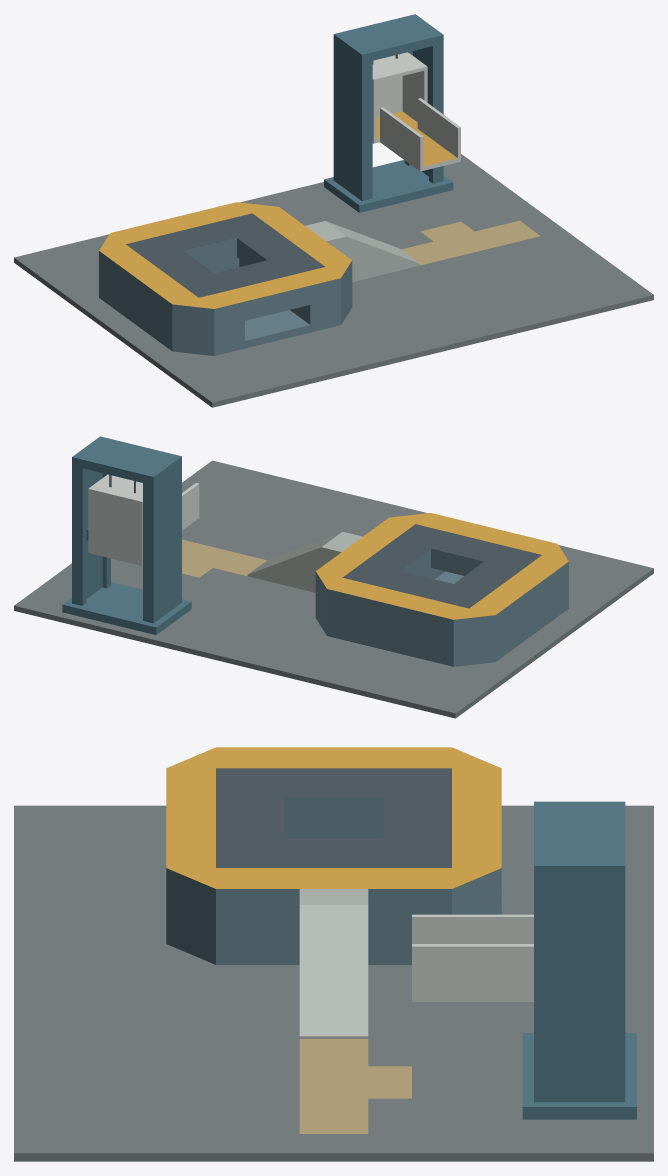
3 renders of one model, top to bottom at view 1: azimuth 30°, elevation 25°; view 2: azimuth 150°, elevation 25°; view 3: azimuth 270°, elevation 25°, orthographic. The views are drawn at different scales.
Visible parts, largest first — view 1: SCENE_ONLY__OffsetLandingCourtGround, landing__WholeOctagonalLandingPlinthWithTurningVoid, tower__WholeOpenCarAndIntegralForwardTrough, tower__LeftWholeInwardChannelColumn, tower__WholeOverheadHeader, tower__WholeGroundedTowerFooting, landing__WholeSideApproachRamp, tower__RightWholeInwardChannelColumn; view 2: SCENE_ONLY__OffsetLandingCourtGround, landing__WholeOctagonalLandingPlinthWithTurningVoid, tower__LeftWholeInwardChannelColumn, tower__WholeOpenCarAndIntegralForwardTrough, tower__WholeOverheadHeader, tower__RightWholeInwardChannelColumn, tower__WholeGroundedTowerFooting, landing__WholeSideApproachRamp; view 3: SCENE_ONLY__OffsetLandingCourtGround, landing__WholeOctagonalLandingPlinthWithTurningVoid, tower__RightWholeInwardChannelColumn, tower__WholeOpenCarAndIntegralForwardTrough, landing__WholeSideApproachRamp, tower__WholeOverheadHeader, tower__WholeGroundedTowerFooting.
Boxes of the visible parts, left/top/right/bottom form: SCENE_ONLY__OffsetLandingCourtGround: left=14, top=154, right=653, bottom=407; landing__WholeOctagonalLandingPlinthWithTurningVoid: left=99, top=202, right=352, bottom=355; tower__WholeOpenCarAndIntegralForwardTrough: left=372, top=52, right=460, bottom=171; tower__LeftWholeInwardChannelColumn: left=333, top=43, right=372, bottom=200; tower__WholeOverheadHeader: left=333, top=14, right=443, bottom=63; tower__WholeGroundedTowerFooting: left=324, top=160, right=453, bottom=212; landing__WholeSideApproachRamp: left=305, top=221, right=420, bottom=281; tower__RightWholeInwardChannelColumn: left=404, top=43, right=443, bottom=183; SCENE_ONLY__OffsetLandingCourtGround: left=14, top=460, right=653, bottom=718; landing__WholeOctagonalLandingPlinthWithTurningVoid: left=315, top=513, right=568, bottom=666; tower__LeftWholeInwardChannelColumn: left=143, top=465, right=181, bottom=623; tower__WholeOpenCarAndIntegralForwardTrough: left=88, top=474, right=199, bottom=565; tower__WholeOverheadHeader: left=72, top=436, right=181, bottom=485; tower__RightWholeInwardChannelColumn: left=72, top=465, right=110, bottom=605; tower__WholeGroundedTowerFooting: left=62, top=582, right=191, bottom=634; landing__WholeSideApproachRamp: left=247, top=531, right=362, bottom=592; SCENE_ONLY__OffsetLandingCourtGround: left=14, top=805, right=653, bottom=1161; landing__WholeOctagonalLandingPlinthWithTurningVoid: left=166, top=747, right=501, bottom=964; tower__RightWholeInwardChannelColumn: left=534, top=880, right=625, bottom=1102; tower__WholeOpenCarAndIntegralForwardTrough: left=412, top=914, right=533, bottom=1001; landing__WholeSideApproachRamp: left=299, top=889, right=368, bottom=1038; tower__WholeOverheadHeader: left=534, top=801, right=625, bottom=879; tower__WholeGroundedTowerFooting: left=522, top=1033, right=636, bottom=1119.
Size of the model in its own units: 10.8 by 3.72 by 8.4.
